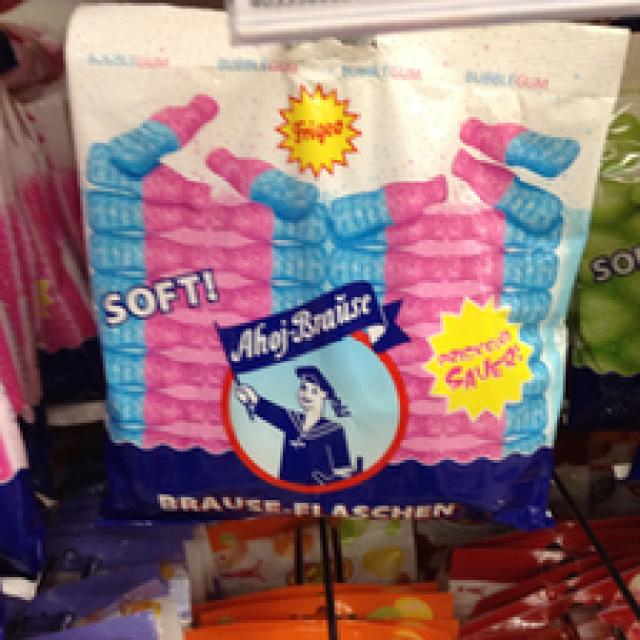groceries: (69, 9, 586, 520)
